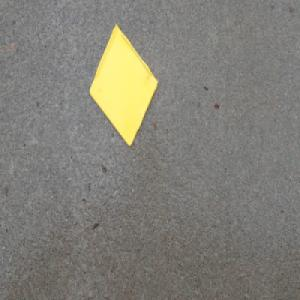PlasticPart: (89, 22, 159, 147)
